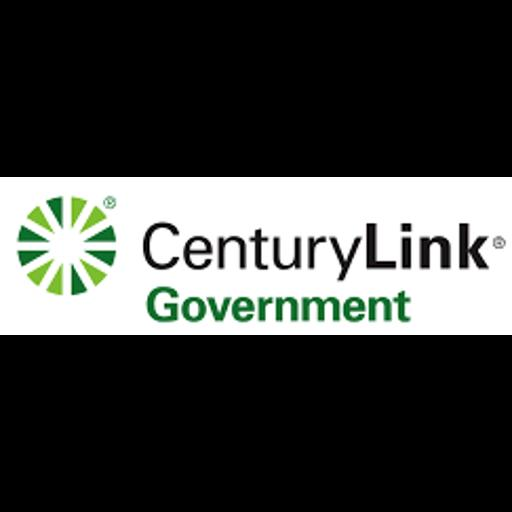CenturyLink: (0, 177, 512, 335)
